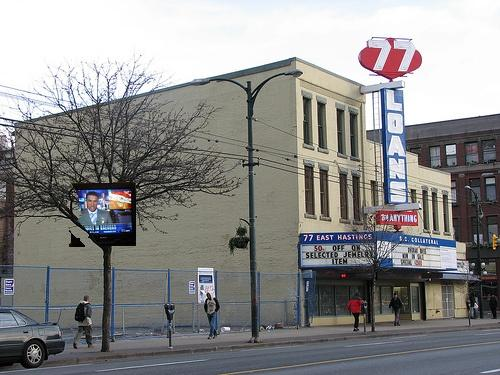tampered: (69, 183, 136, 247)
